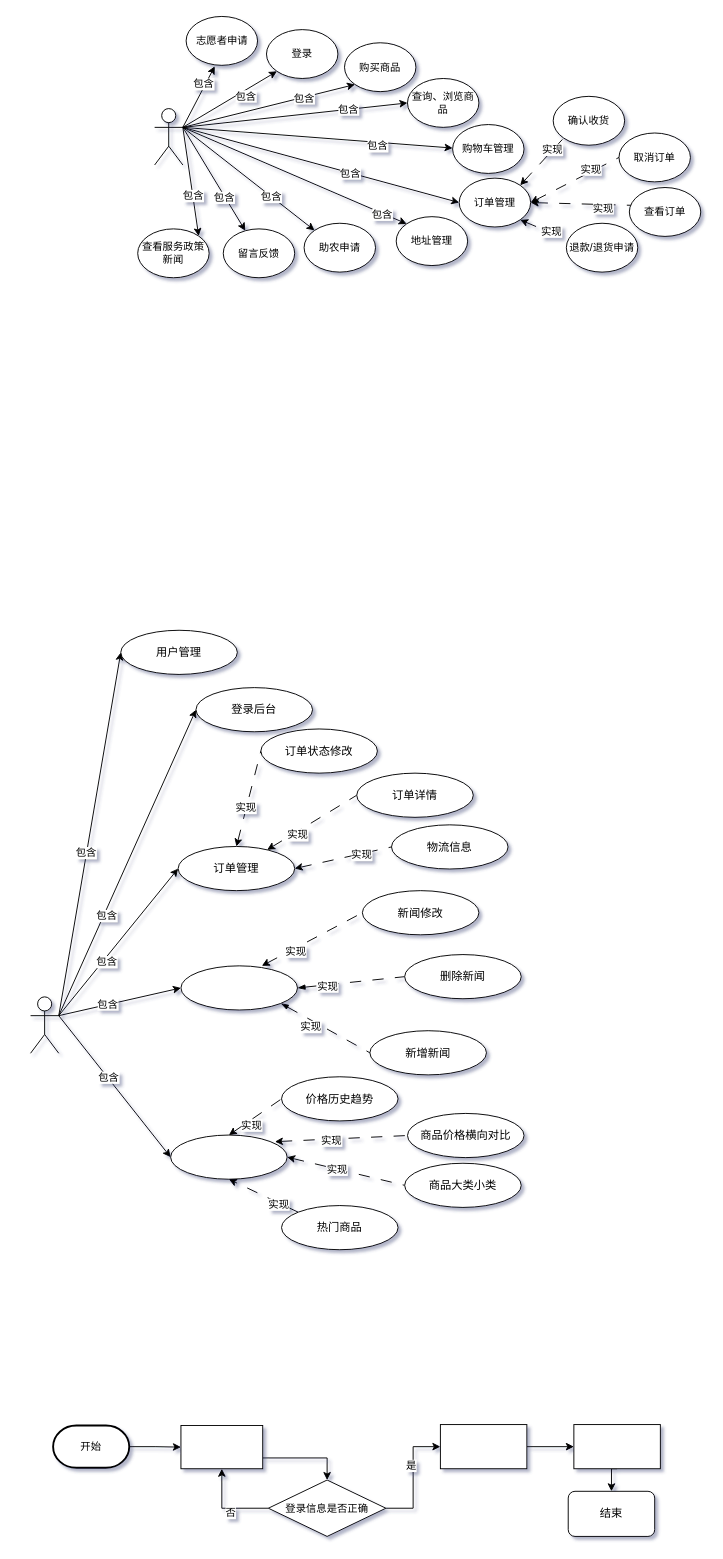
This 723x1559 diagram has some shape labels left out. Here are the shapes that lost their labels. From the top down, the box of each, then its label:
(154, 108, 183, 165): 用户
(180, 965, 298, 1010): 新闻
(30, 996, 59, 1053): 后台管理员
(170, 1134, 287, 1179): 数据可视化
(180, 1425, 263, 1469): 管理员登录
(439, 1424, 527, 1469): 进入管理中心
(573, 1424, 660, 1469): 对订单、新闻进行操作，查看可视化数据
